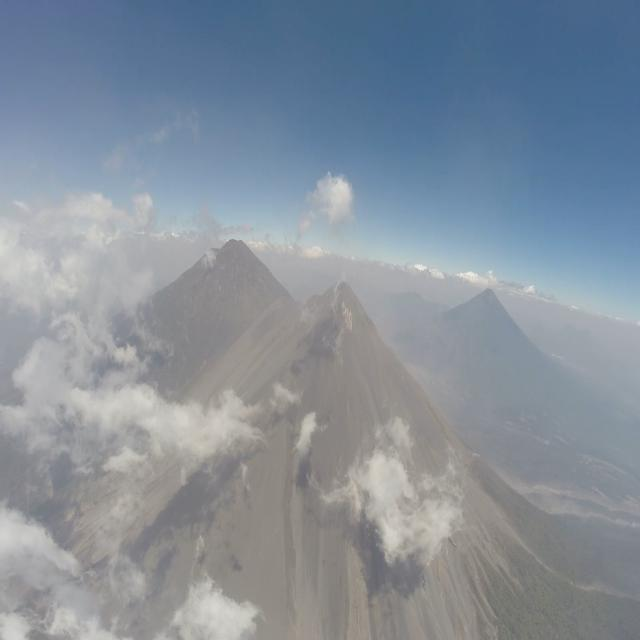Summit: (304, 276, 384, 338)
